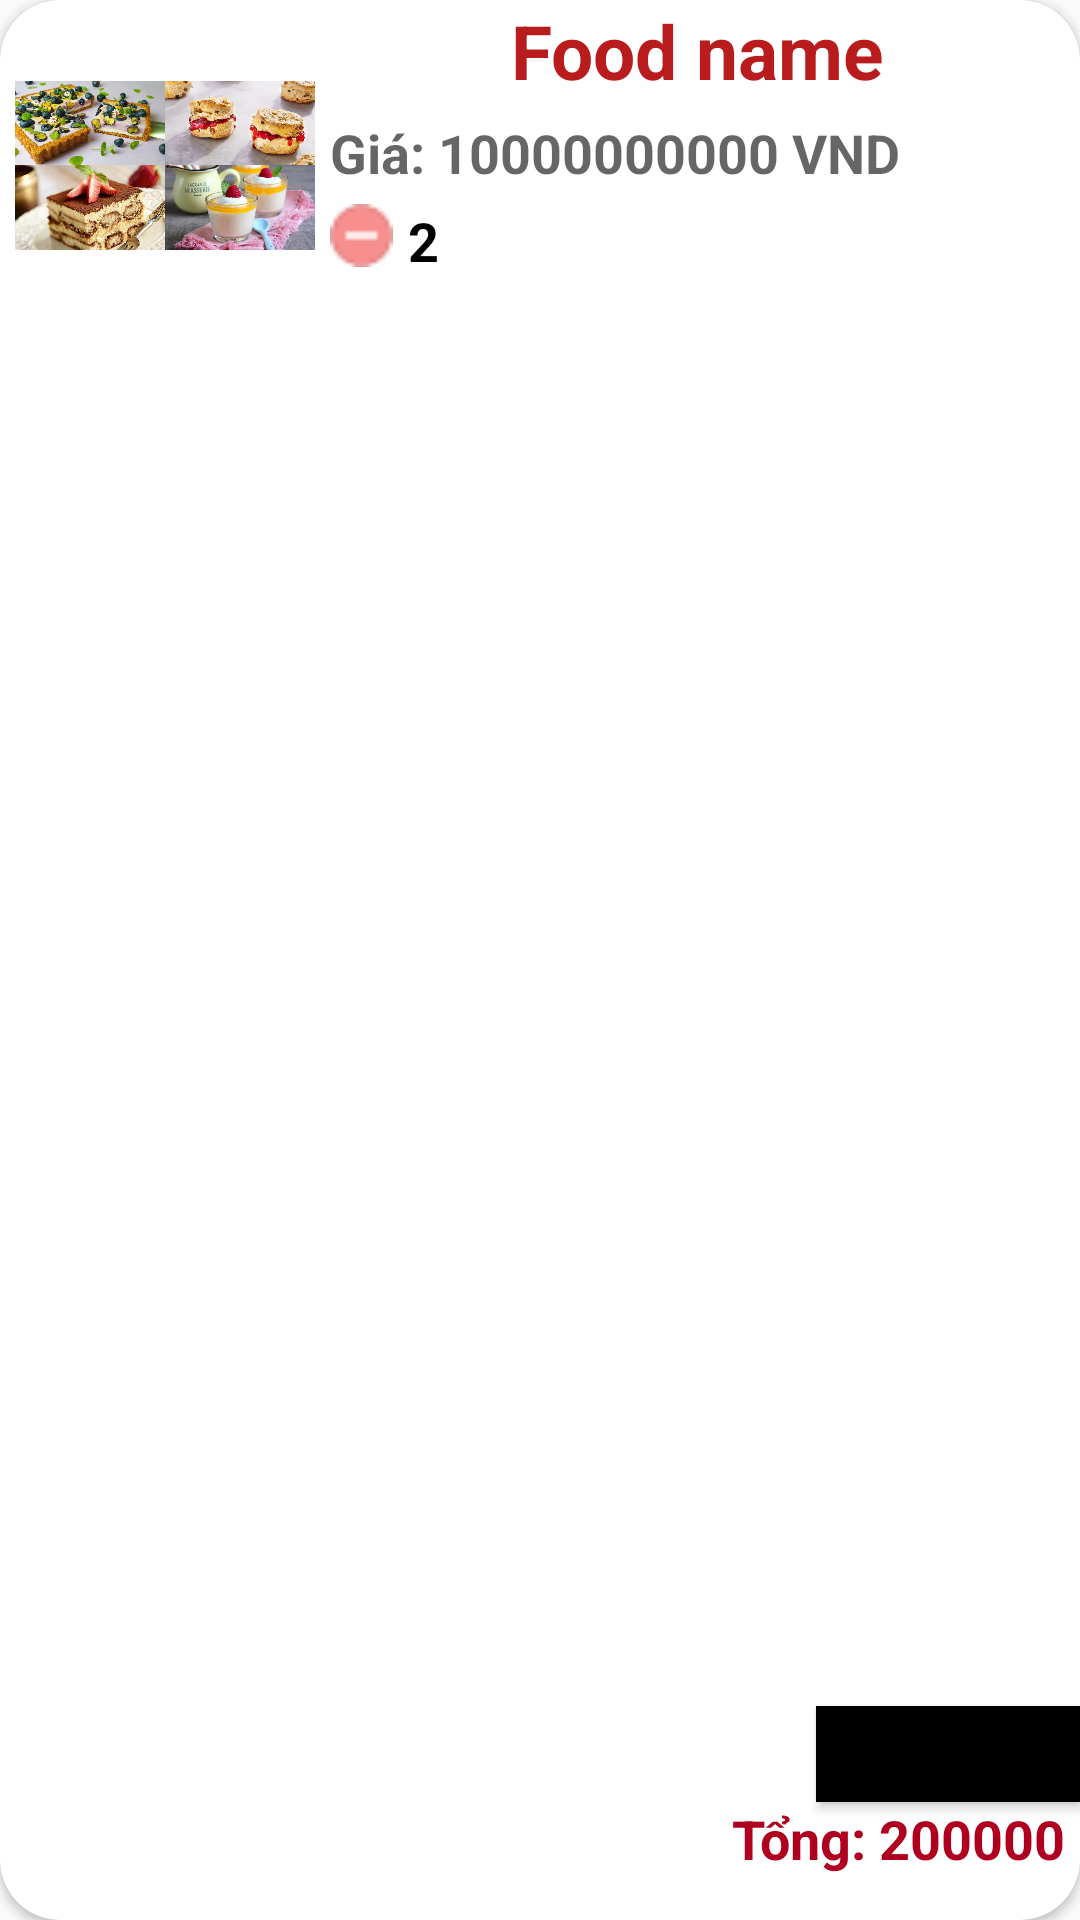

Named icons in this screenshot (1080*1920) and their bounding boxes, (x1, y1, x2, y2):
cac loai banh: (15, 81, 315, 250)
sub: (330, 204, 393, 267)
